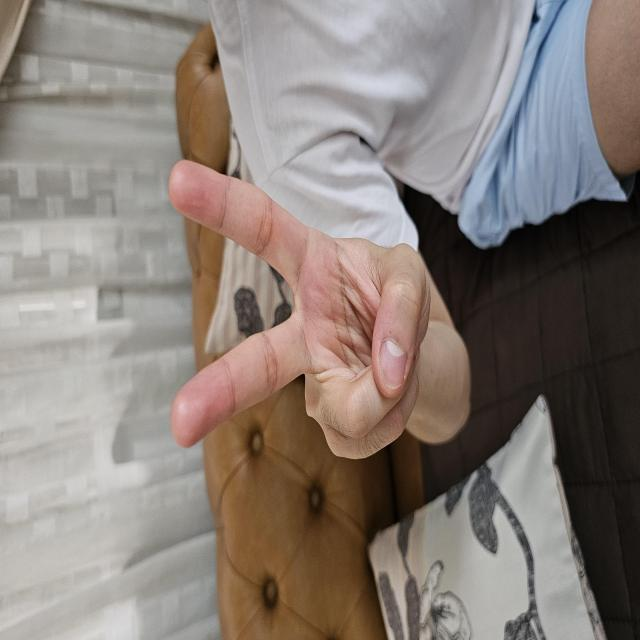V: (178, 166, 483, 432)
